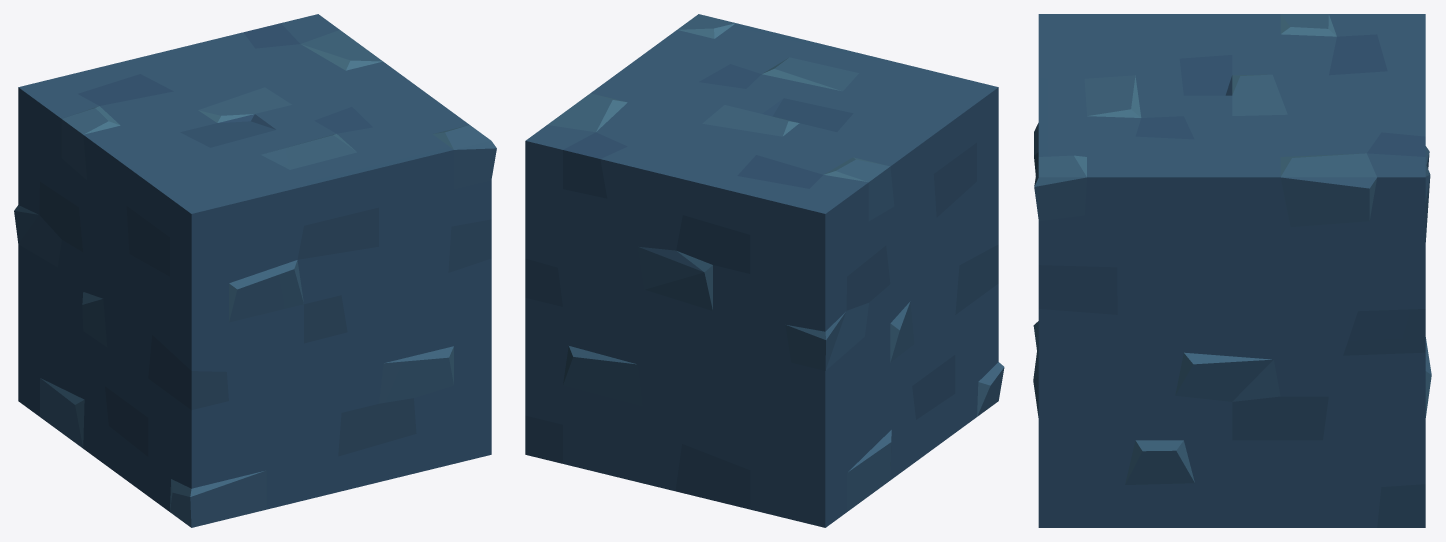
The model's file is backfill_4m.fbx.
3 renders of one model, left to right at view 1: azimuth 30°, elevation 25°; view 2: azimuth 150°, elevation 25°; view 3: azimuth 270°, elevation 25°, orthographic. The views are drawn at different scales.
Visible parts, largest first — view 1: backfill_4m; view 2: backfill_4m; view 3: backfill_4m.
Part boxes in pixels (box(x1,y1,x2,y2)): backfill_4m: box(14, 14, 496, 527); backfill_4m: box(525, 14, 1004, 527); backfill_4m: box(1033, 14, 1431, 527).
Bounding box in the file's own units: 415 × 412 × 412.
